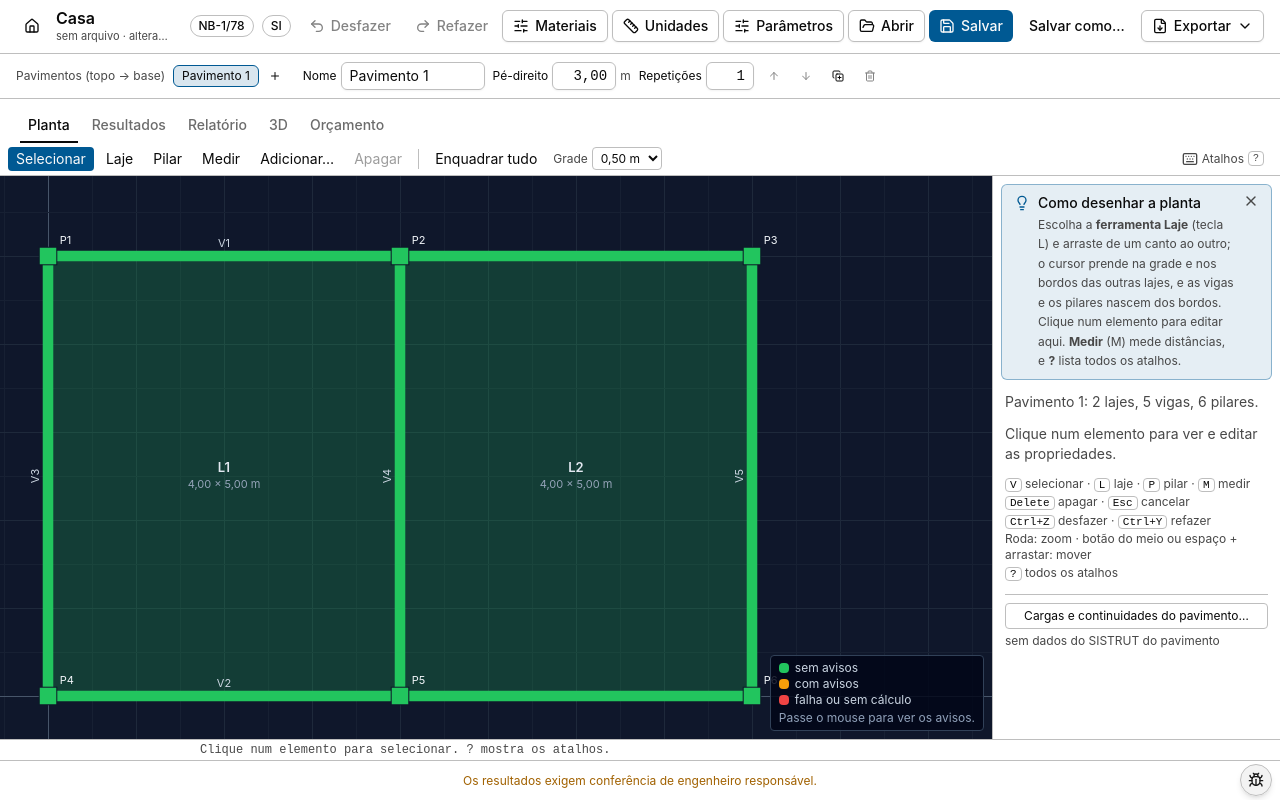
Scenario: diálogo de unidades › ao fechar com Esc, o foco volta ao botão Unidades
Expected: the heading "Casa" is shown, [56, 8, 95, 28]
Click the button "Unidades".
click(666, 26)  # box [612, 10, 719, 42]
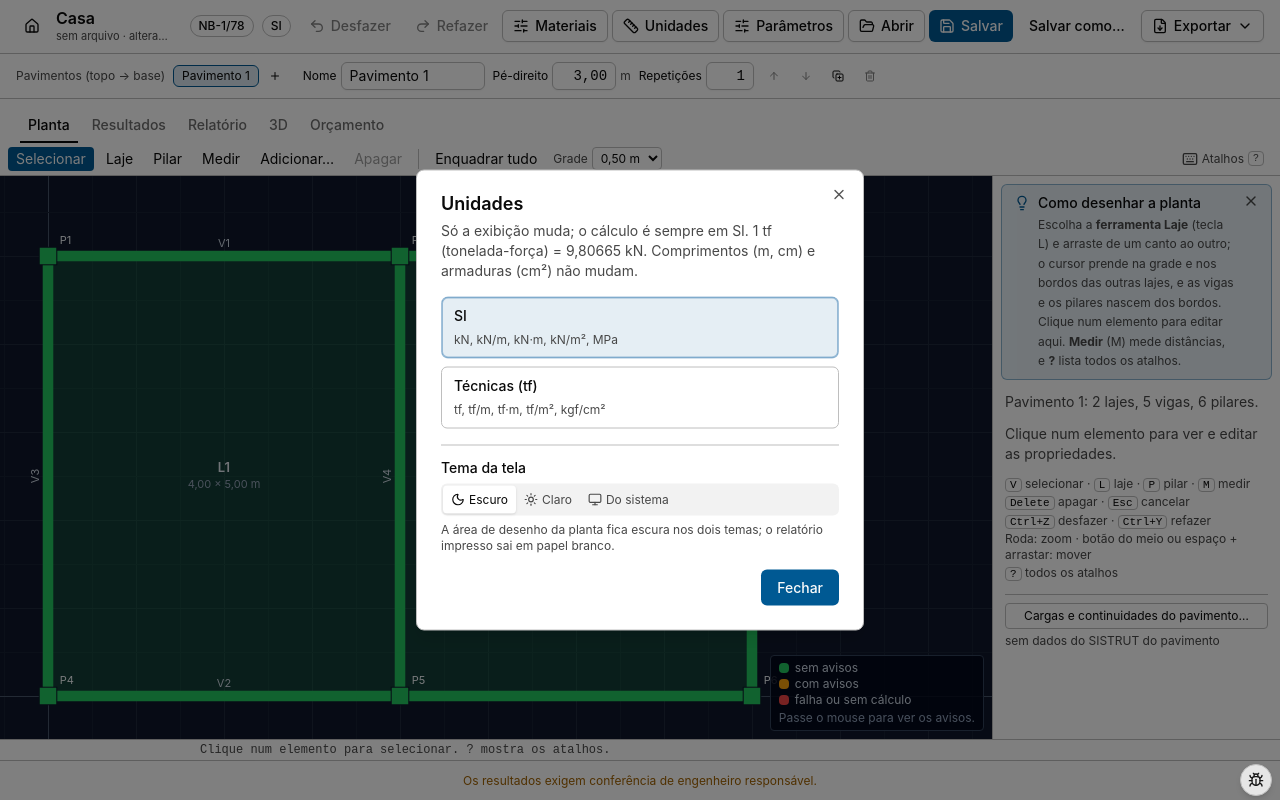
Press Escape
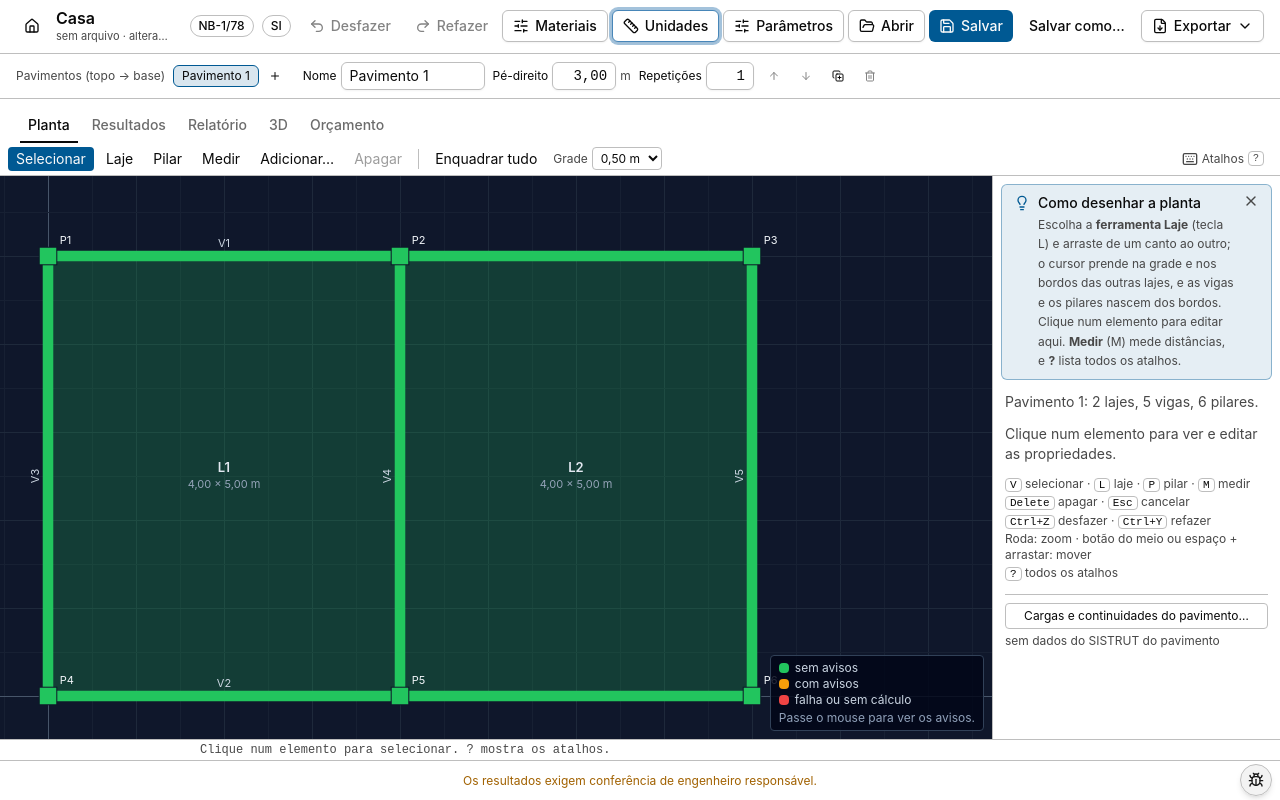
Expected: the dialog is gone
